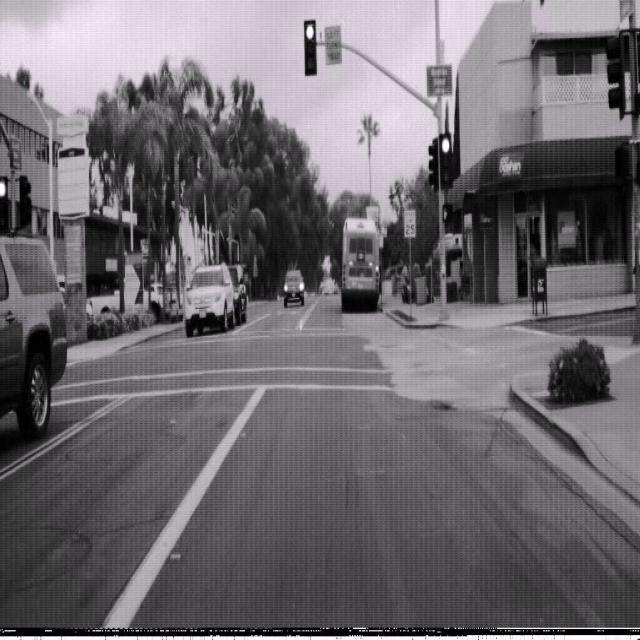speedLimit25: (403, 207, 416, 239)
